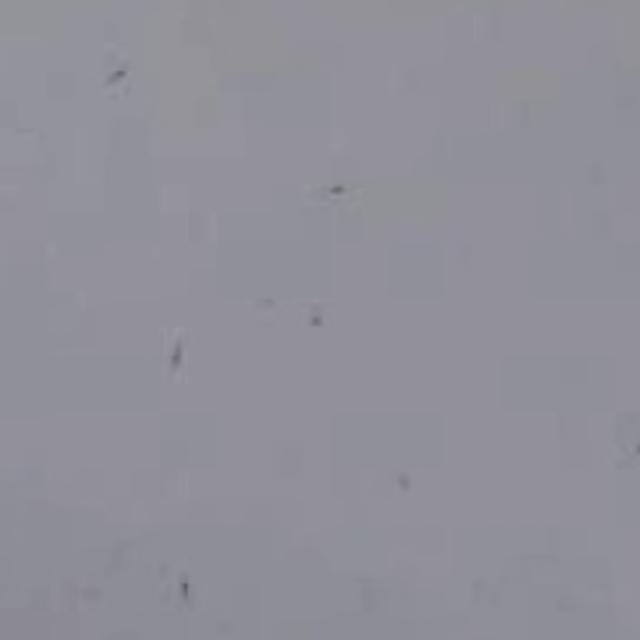shrimp-seed: (158, 324, 196, 381), (88, 55, 142, 90), (304, 292, 341, 339), (301, 174, 357, 202), (173, 569, 203, 613)
